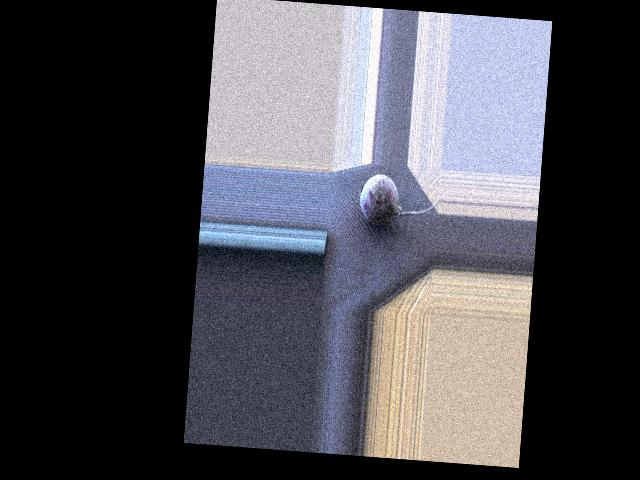beet: (358, 173, 440, 229)
